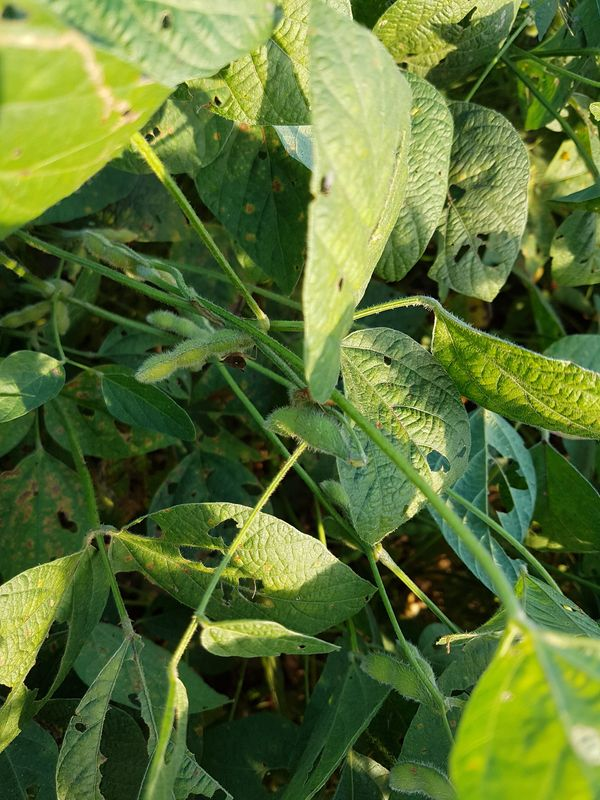Euschistus_heros_adulto: (217, 342, 258, 378)
